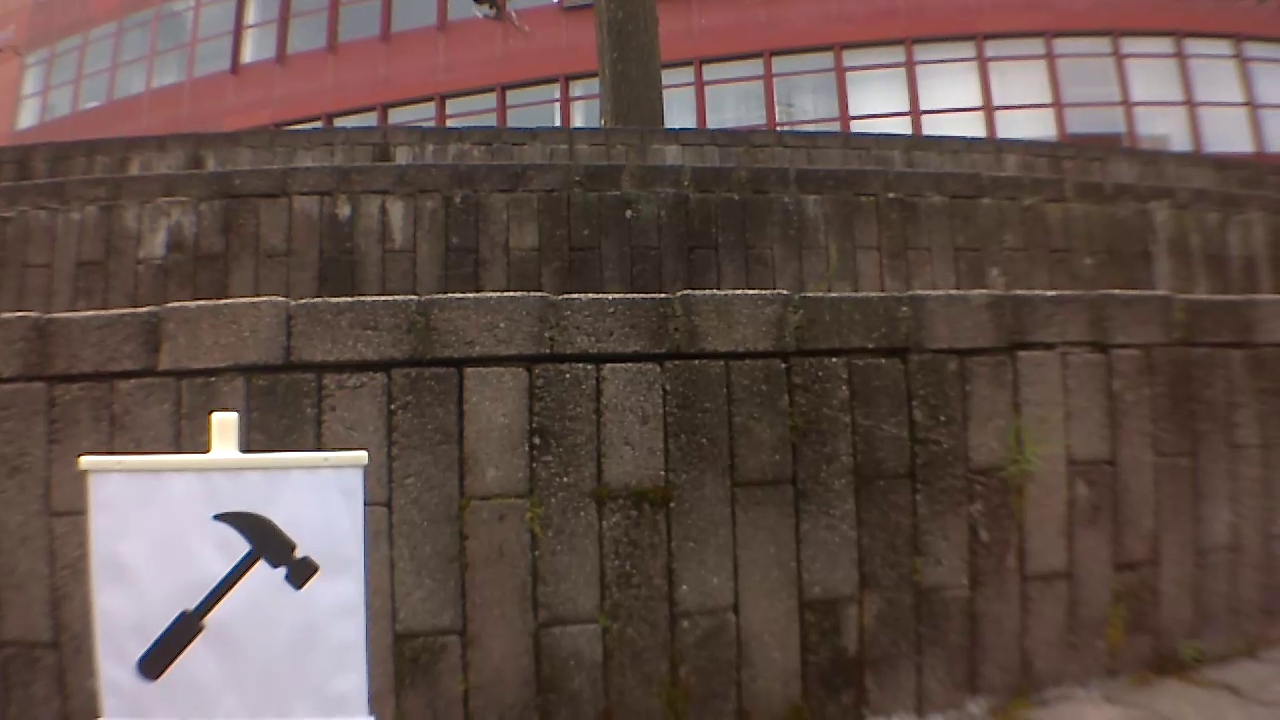hammer: (132, 508, 317, 681)
